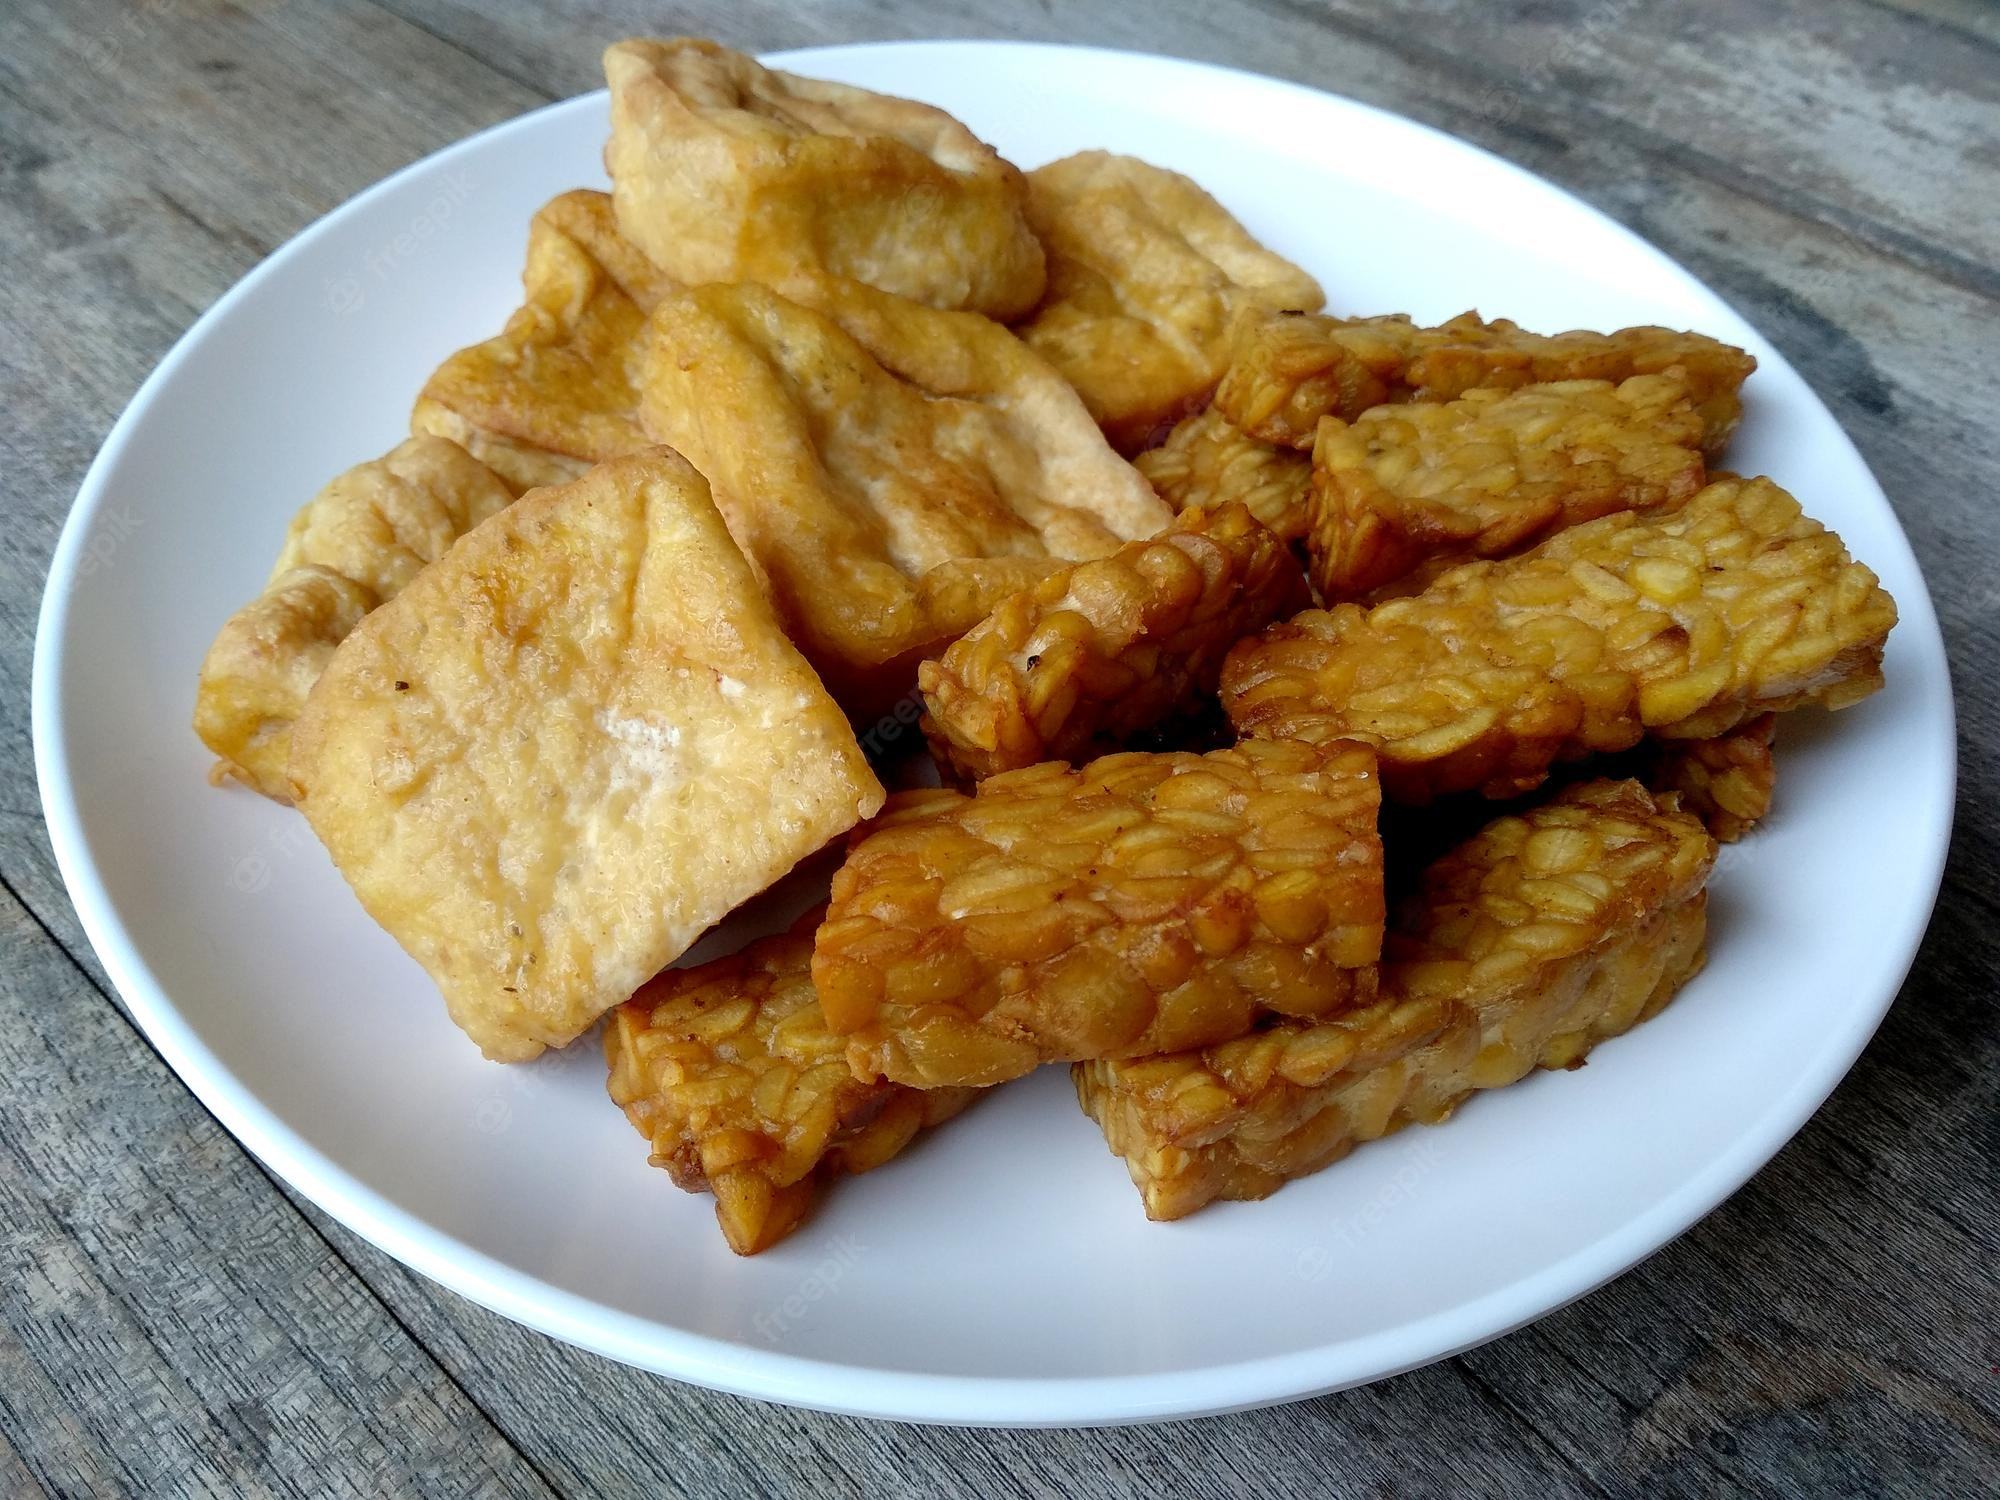Tempe: (1106, 815, 1696, 1275), (1331, 462, 1899, 824), (783, 737, 1373, 1082), (946, 457, 1227, 778), (1276, 367, 1639, 610)
